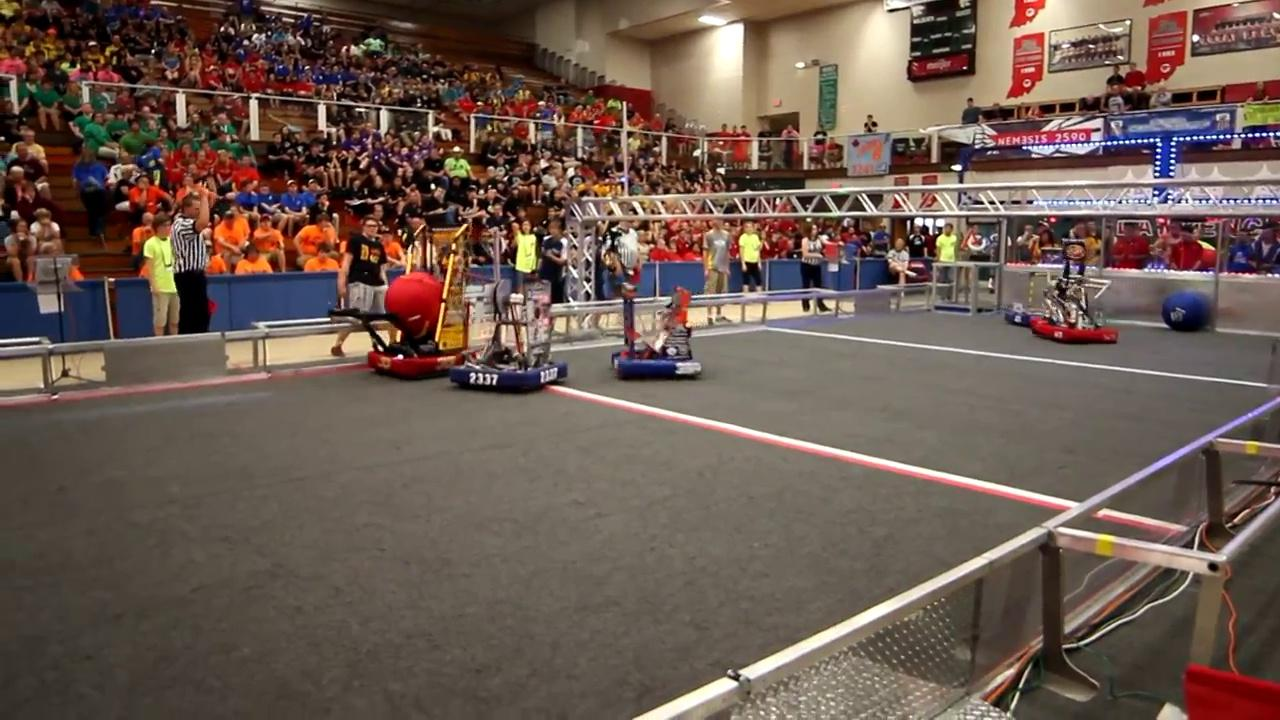robot: (358, 221, 480, 382), (444, 267, 574, 394), (607, 274, 709, 383), (1027, 257, 1123, 350)
